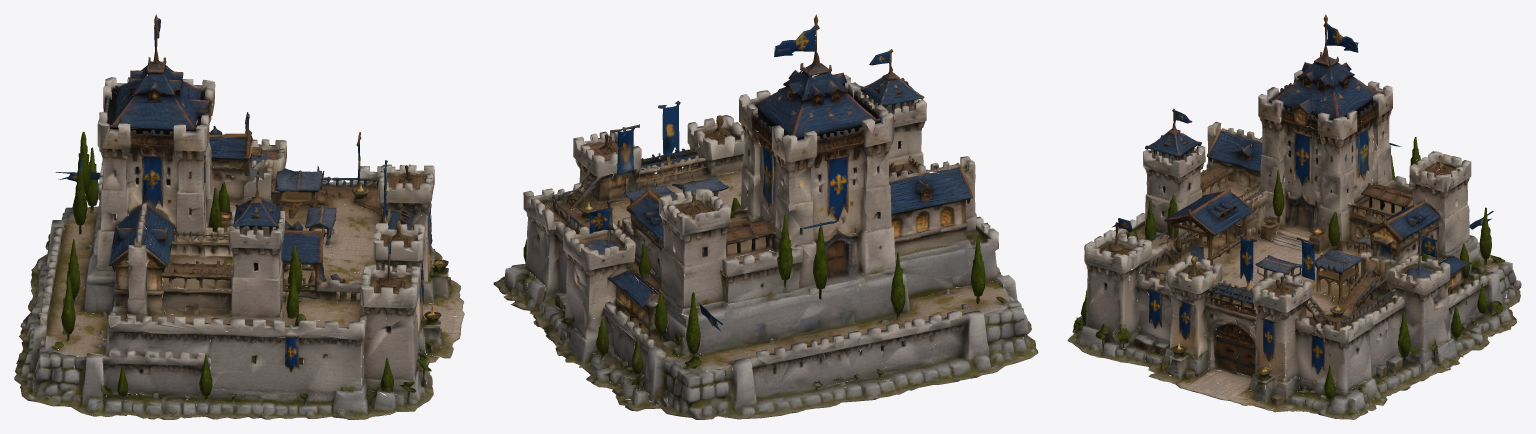
The model's file is bastion-v.glb.
3 renders of one model, left to right at view 1: azimuth 30°, elevation 25°; view 2: azimuth 150°, elevation 25°; view 3: azimuth 270°, elevation 25°, orthographic. The views are drawn at different scales.
Visible parts, largest first — view 1: tripo_node_2e71ac58-ff2a-40b7-a09a-259fb2185e3c; view 2: tripo_node_2e71ac58-ff2a-40b7-a09a-259fb2185e3c; view 3: tripo_node_2e71ac58-ff2a-40b7-a09a-259fb2185e3c.
Part boxes in pixels (left/top/right/bottom): tripo_node_2e71ac58-ff2a-40b7-a09a-259fb2185e3c: left=14, top=14, right=464, bottom=419; tripo_node_2e71ac58-ff2a-40b7-a09a-259fb2185e3c: left=493, top=14, right=1038, bottom=419; tripo_node_2e71ac58-ff2a-40b7-a09a-259fb2185e3c: left=1067, top=14, right=1521, bottom=419.
Bounding box in the file's own units: 1.22 × 0.7971 × 1.17.
1 material, 1 textured.
